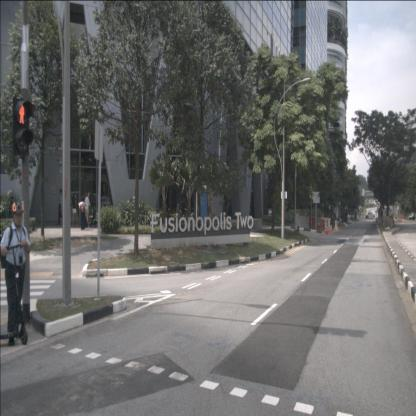barrier: (299, 216, 310, 228), (311, 217, 315, 228), (336, 220, 339, 229), (335, 220, 337, 229)
cone: (326, 226, 329, 234), (324, 226, 326, 234)
